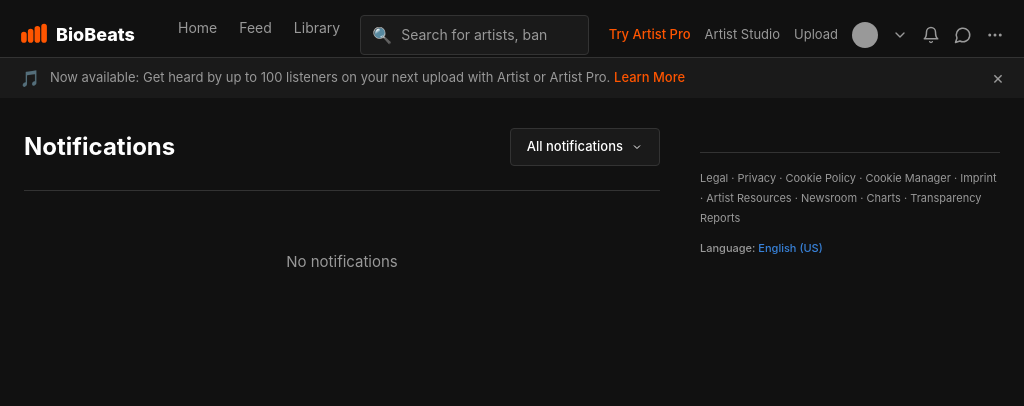
Test case: NotificationsPage › opens filter dropdown on click
The width and height of the screenshot is (1024, 406).
Click the button with test id "notifications-filter-button" at (585, 147), box left=510, top=128, right=660, bottom=166
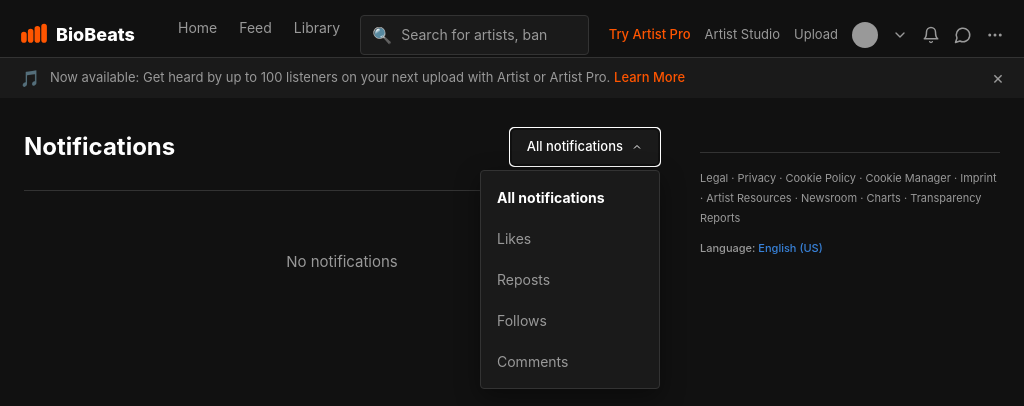
Expected: the element with test id "notifications-filter-dropdown" is shown, left=480, top=170, right=660, bottom=388
